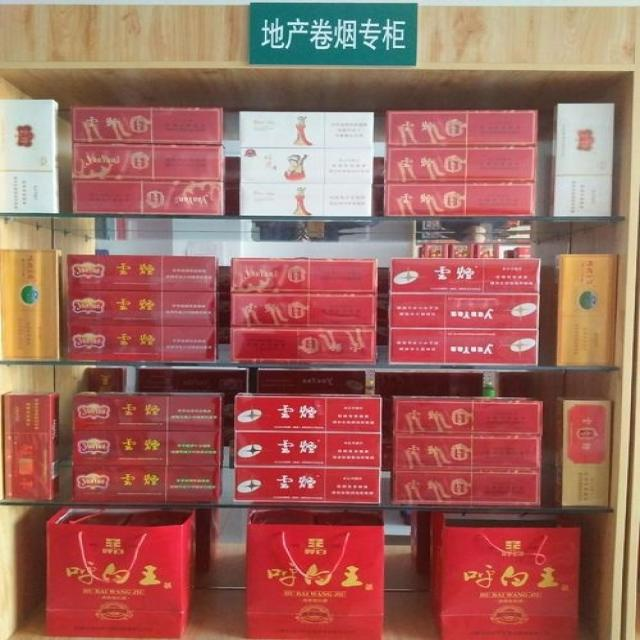box: (44, 507, 197, 640), (426, 512, 584, 640), (246, 508, 385, 640), (552, 254, 618, 367), (549, 104, 614, 217), (0, 249, 64, 361), (0, 99, 59, 213), (1, 391, 60, 500), (390, 395, 543, 436), (556, 396, 611, 507), (72, 391, 223, 431), (234, 392, 381, 433), (72, 106, 224, 145), (72, 142, 225, 180), (234, 466, 383, 504), (387, 109, 539, 146), (233, 431, 381, 469), (68, 325, 219, 362), (389, 329, 540, 366), (392, 471, 543, 507), (69, 255, 219, 291), (73, 466, 223, 502), (385, 147, 539, 182), (392, 258, 541, 294), (389, 294, 541, 329), (232, 259, 379, 295), (392, 437, 543, 472), (232, 328, 378, 364), (72, 180, 225, 214), (239, 111, 375, 149), (232, 294, 379, 329), (69, 291, 219, 325), (73, 432, 223, 466), (384, 184, 536, 217), (241, 148, 375, 184), (239, 183, 372, 216), (134, 366, 250, 393), (257, 367, 365, 394), (374, 372, 484, 397), (195, 508, 220, 576), (411, 510, 430, 574), (88, 367, 128, 392), (495, 372, 535, 397)
